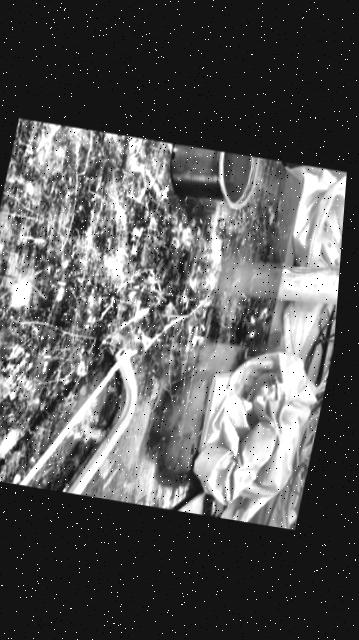pot: (160, 143, 261, 211)
